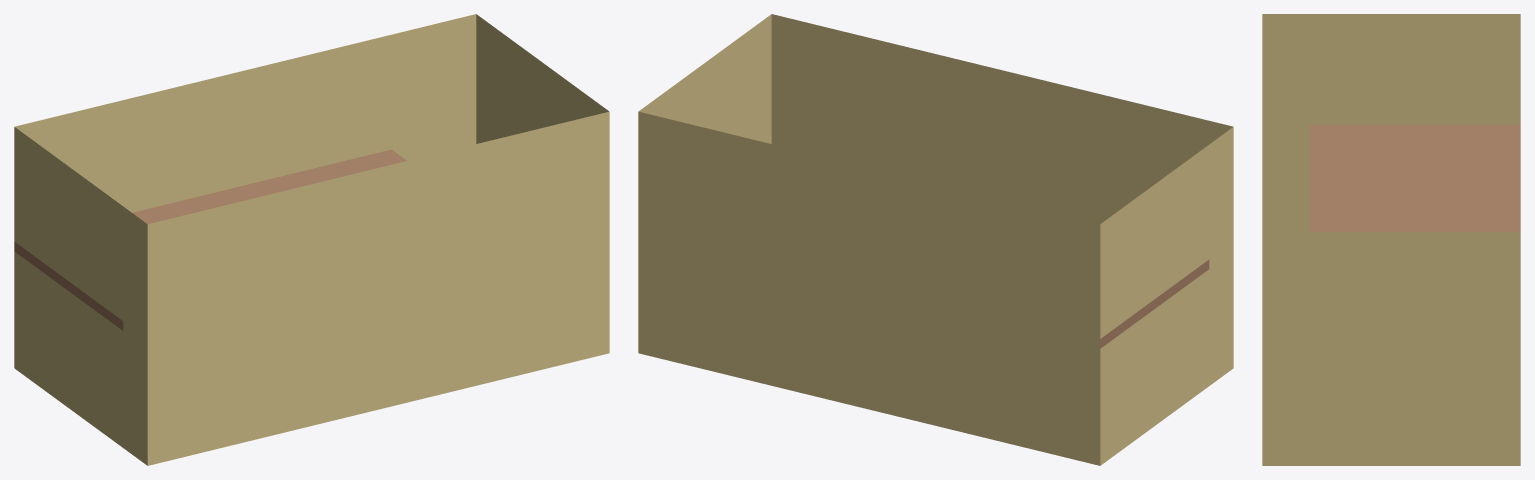
3 views of the same model, side by side, from view 1: azimuth 30°, elevation 25°; view 2: azimuth 150°, elevation 25°; view 3: azimuth 270°, elevation 25° (orthographic). The views are drawn at different scales.
Parts seen in each view (by area): view 1: object 3, Tabletop; view 2: object 3, Tabletop; view 3: object 3, Tabletop.
Boxes of the visible parts, left/top/right/bottom form: object 3: left=14, top=14, right=609, bottom=465; Tabletop: left=14, top=149, right=406, bottom=330; object 3: left=638, top=14, right=1233, bottom=465; Tabletop: left=1100, top=259, right=1209, bottom=348; object 3: left=1262, top=14, right=1520, bottom=465; Tabletop: left=1309, top=125, right=1520, bottom=231.
Bounding box in the file's own units: 1.71 × 0.8572 × 0.8572.
